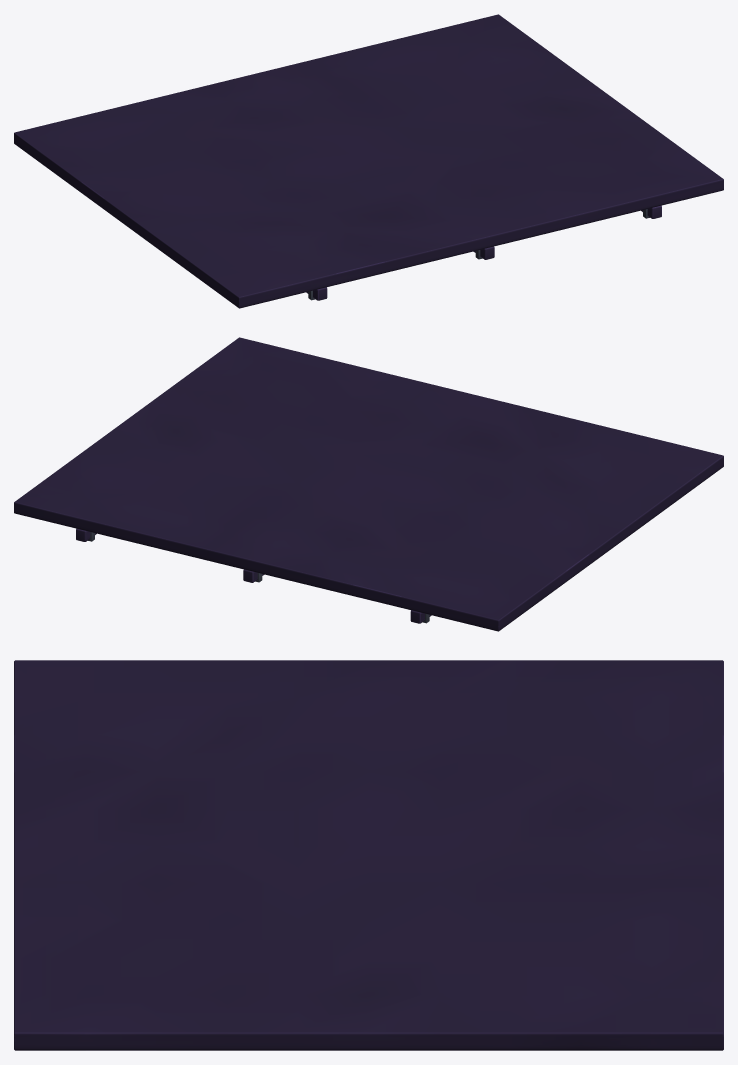
The model's file is SM_Projection_Ceiling.fbx.
3 views of the same model, one above another, from view 1: azimuth 30°, elevation 25°; view 2: azimuth 150°, elevation 25°; view 3: azimuth 270°, elevation 25° (orthographic). The views are drawn at different scales.
Parts seen in each view (by area): view 1: SM_Projection_Ceiling; view 2: SM_Projection_Ceiling; view 3: SM_Projection_Ceiling.
Part boxes in pixels (x1,y1,x2,y2): SM_Projection_Ceiling: (14, 14, 723, 308); SM_Projection_Ceiling: (14, 337, 723, 631); SM_Projection_Ceiling: (14, 660, 723, 1050).
Size of the model in its own units: 870 by 44.06 by 700.
